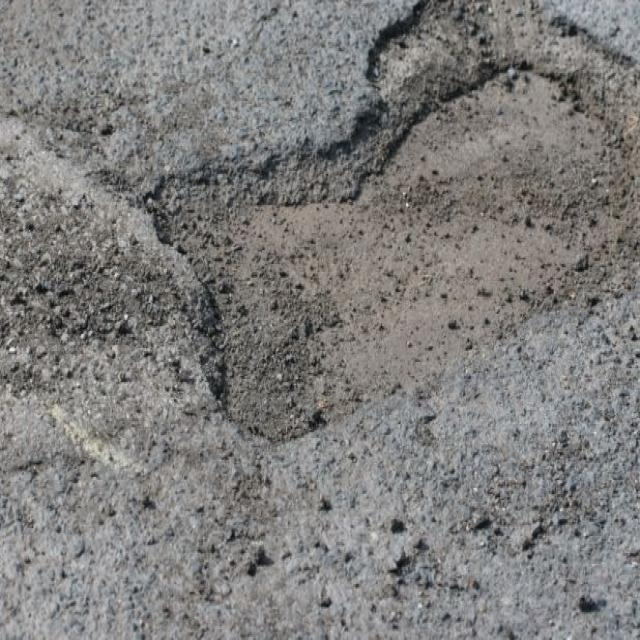Pothole: (146, 1, 621, 453)
